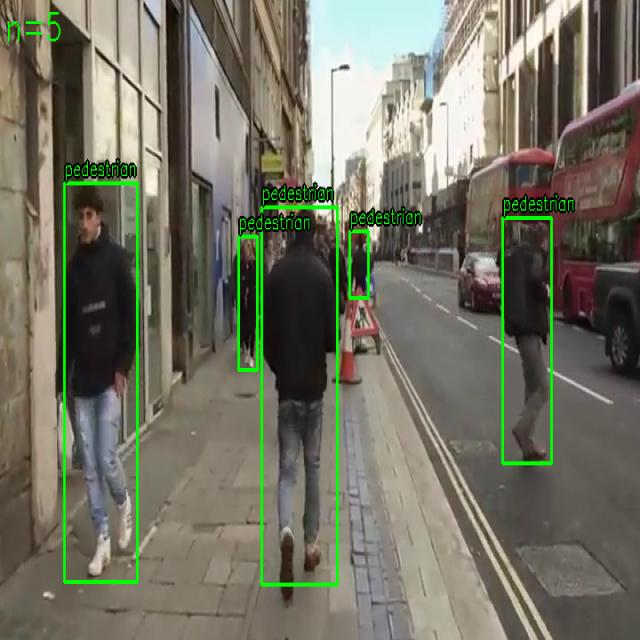with scooter: (64, 182, 138, 582), (261, 207, 338, 585), (502, 217, 552, 464), (238, 236, 258, 371), (349, 230, 369, 298)
